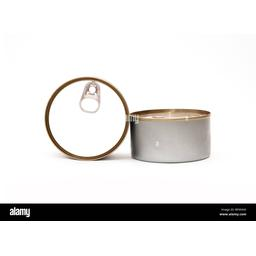metal: (39, 67, 134, 176), (126, 91, 220, 186)
